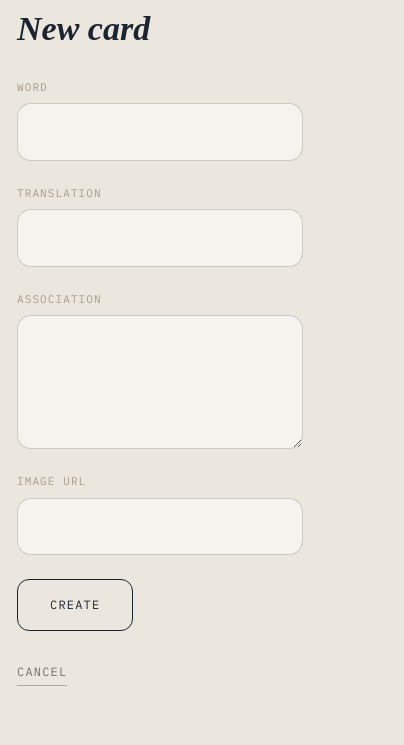
Test: NewCardView › shows a form-level error, does not navigate, and keeps entered values on failure
This screenshot has width=404, height=745.
Type "Katze" into the field with id "word".
click(160, 132); type("Katze")  # box [17,103,303,161]
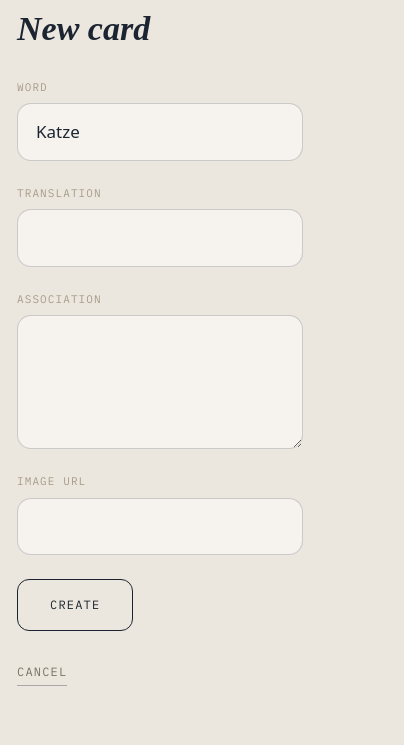
Type "cat" into the field with id "translation".
click(160, 238); type("cat")  # box [17,209,303,267]
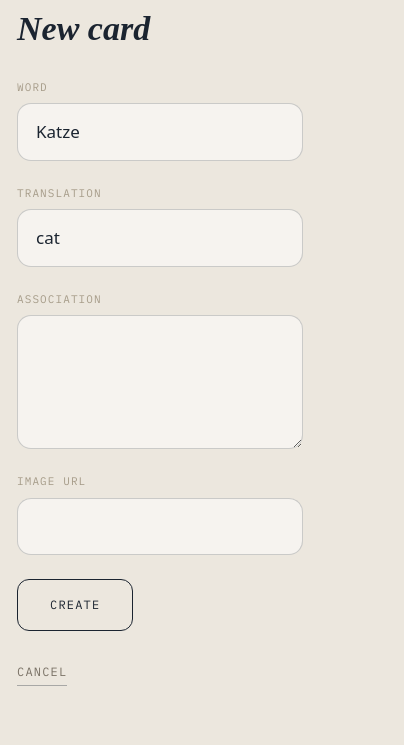
Type "assoc" into the text box with id "association".
click(160, 382); type("assoc")  # box [17,315,303,449]
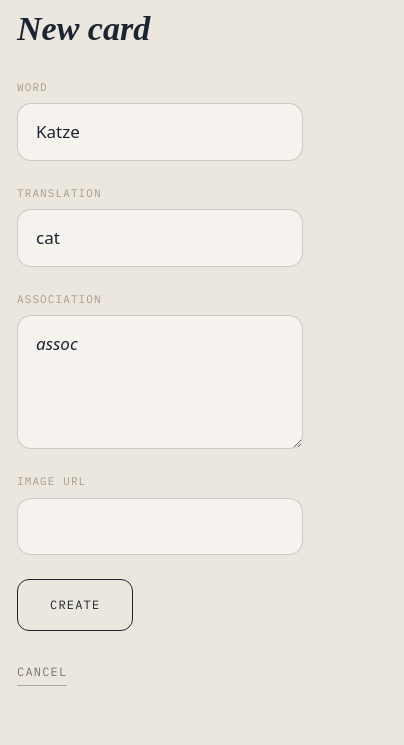
Submit the form, box [17,79,303,631]
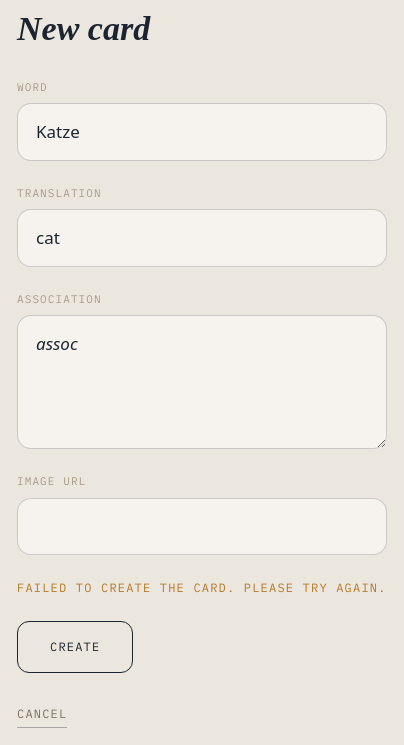
Now the text "Failed to create the card" is shown, box [17,580,387,595]
